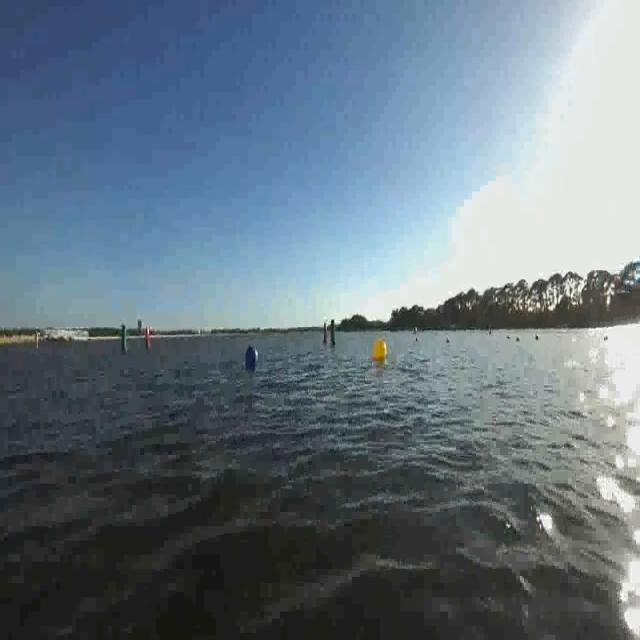blue-buoy: (244, 344, 256, 368)
green-column-buoy: (117, 323, 128, 356)
red-column-buoy: (144, 326, 151, 346)
yellow-buoy: (372, 340, 386, 362)
